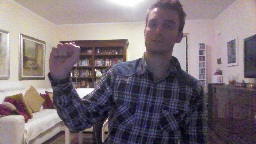Pugno: (48, 40, 80, 81)
